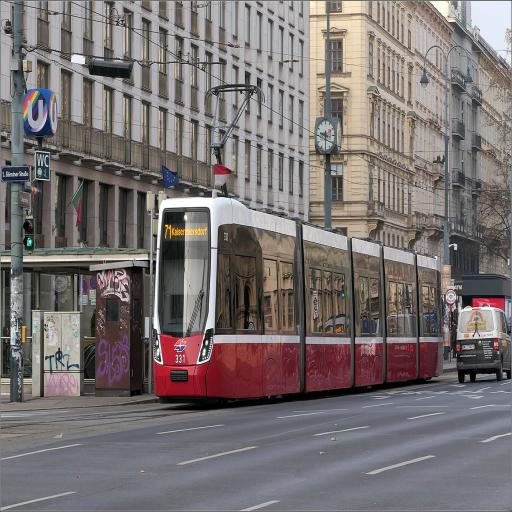Flexity: (152, 196, 440, 402)
